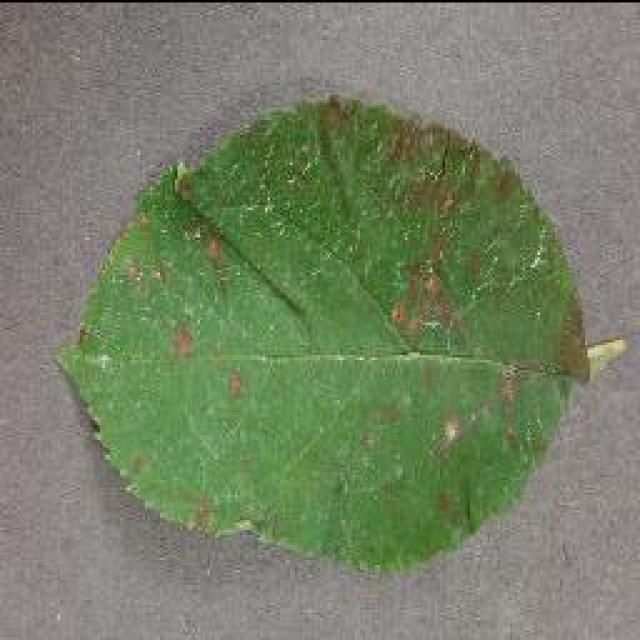apple cedar apple rust: (53, 90, 625, 575)
